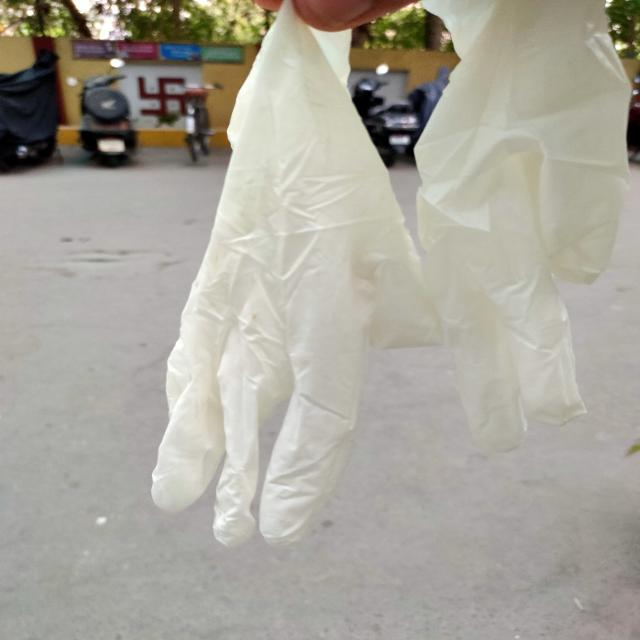B3: (142, 16, 638, 546)
